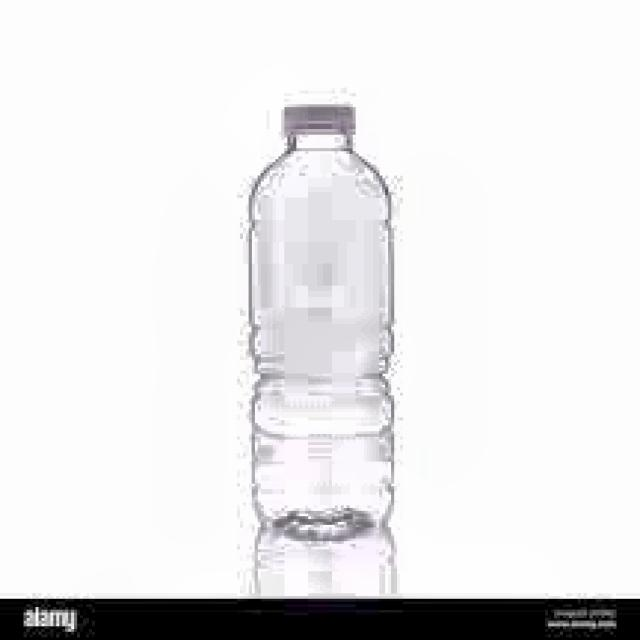plastic bottle: (251, 105, 392, 554)
